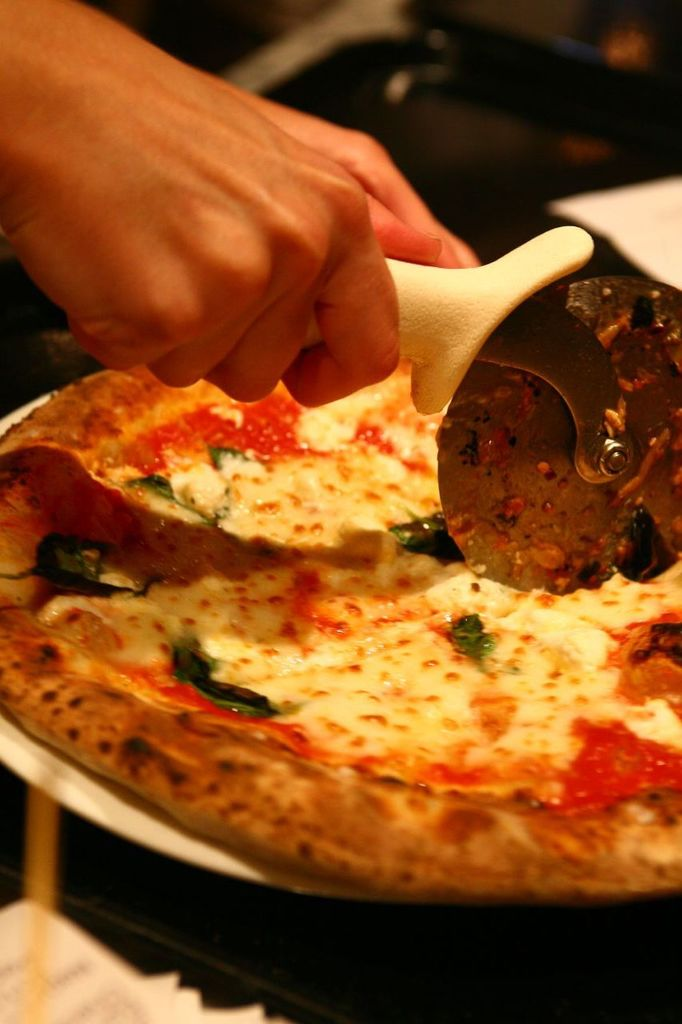Pizza: (0, 223, 668, 912)
